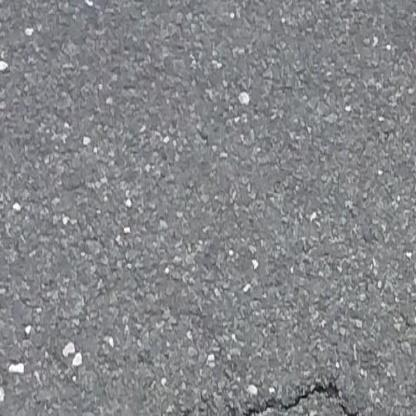Cracks: (173, 381, 397, 416)
